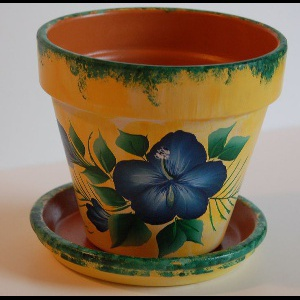flowerpot: (29, 8, 289, 282)
